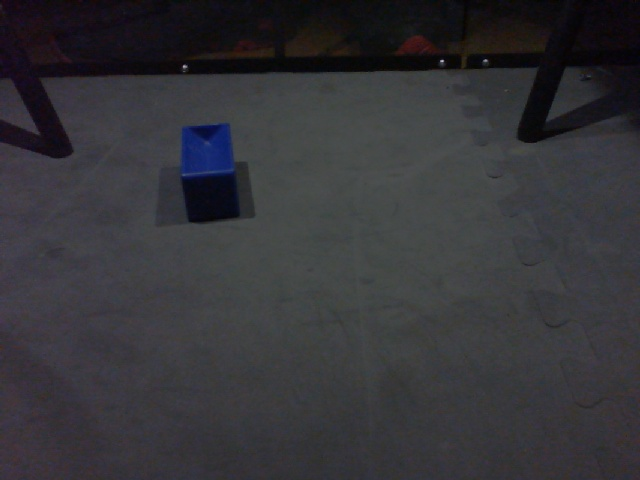BlueSample: (178, 120, 246, 226)
